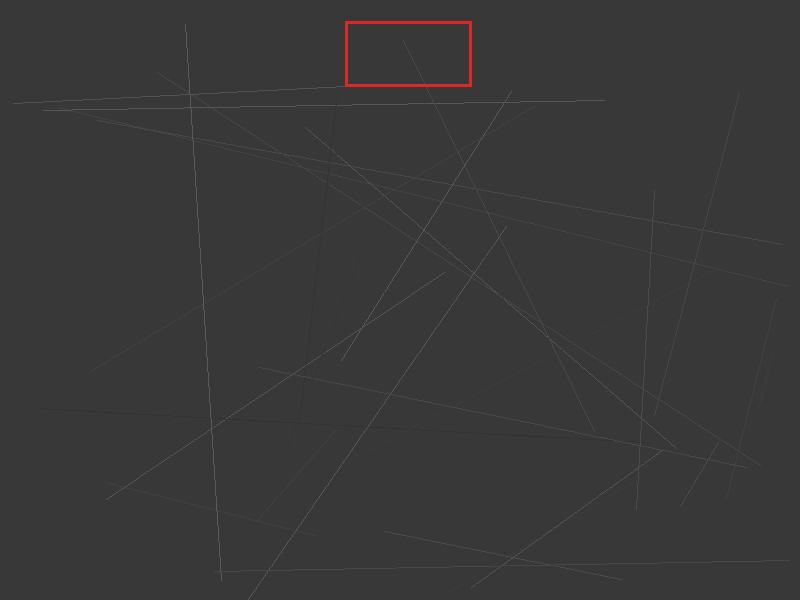D40: (345, 21, 471, 86)
